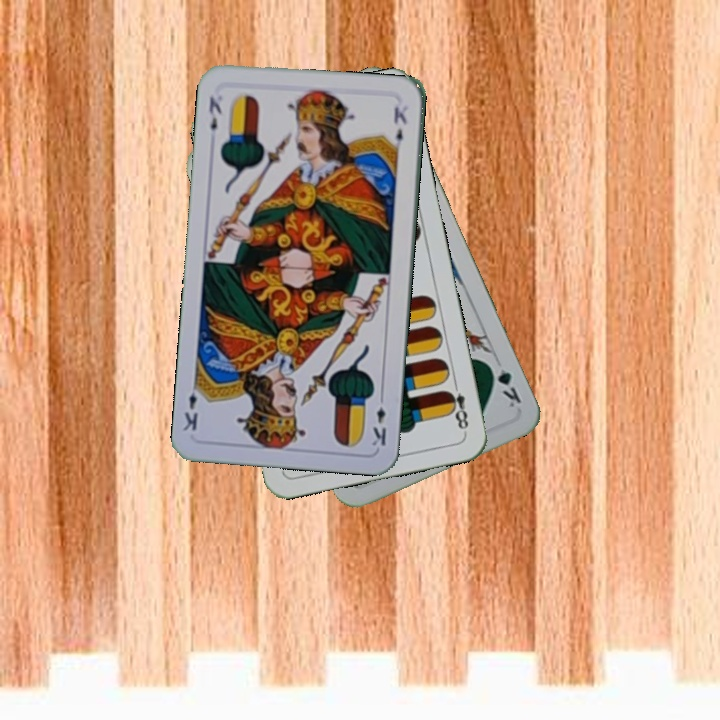E8: (442, 376, 471, 432)
EK: (368, 390, 389, 449), (204, 92, 225, 134)
GK: (484, 354, 524, 410)
